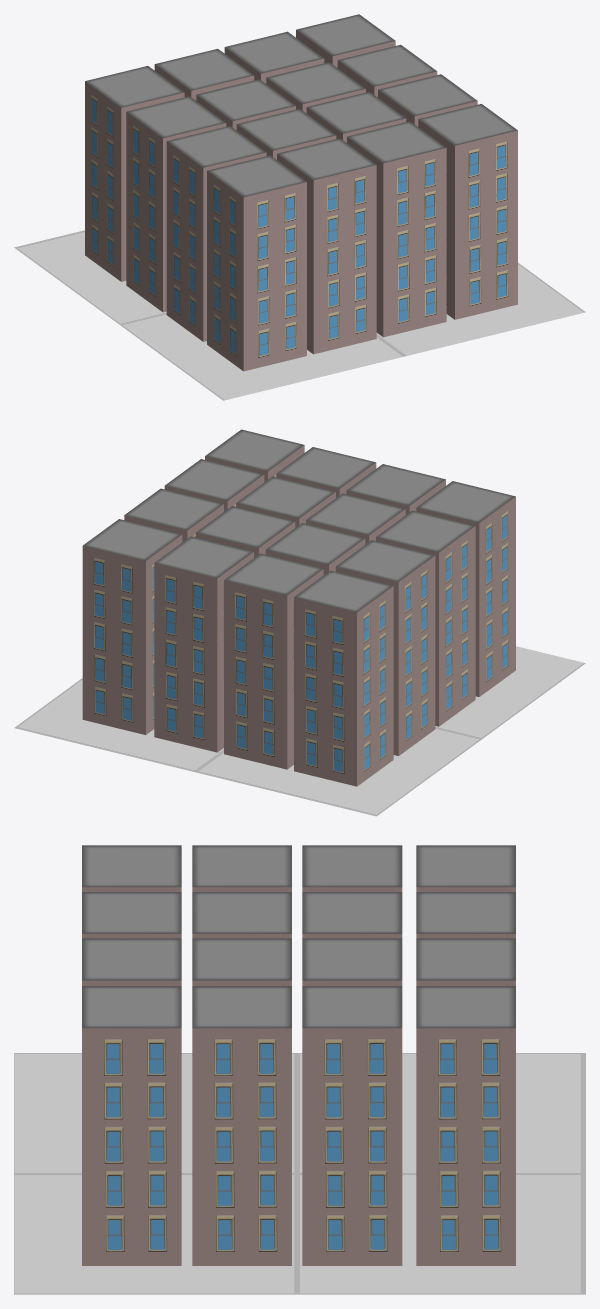
Rendered from erea_1.fbx.
The picture shows the model from 3 angles, top to bottom: view 1: azimuth 30°, elevation 25°; view 2: azimuth 150°, elevation 25°; view 3: azimuth 270°, elevation 25°; orthographic projection. The views are drawn at different scales.
Parts seen in each view (by area): view 1: pCube87, pPlane80, pCube90, pCube89, pCube88, pCube102, pCube94, pCube95, pCube99, pCube100, pCube101, pCube91 (+5 smaller); view 2: pCube102, pPlane80, pCube99, pCube100, pCube101, pCube95, pCube87, pCube94, pCube98, pCube96, pCube97, pCube90 (+5 smaller); view 3: pPlane80, pCube98, pCube90, pCube91, pCube99, pCube97, pCube89, pCube92, pCube100, pCube95, pCube96, pCube87 (+5 smaller).
Boxes of the visible parts, x1,y1,x2,y2 form: pCube87: [207, 155, 306, 371]; pPlane80: [14, 230, 585, 400]; pCube90: [418, 104, 517, 319]; pCube89: [347, 121, 446, 337]; pCube88: [277, 138, 376, 354]; pCube102: [85, 66, 184, 281]; pCube94: [166, 126, 266, 341]; pCube95: [126, 96, 226, 312]; pCube99: [296, 14, 395, 67]; pCube100: [224, 31, 324, 83]; pCube101: [154, 48, 254, 100]; pCube91: [378, 74, 477, 126]; pCube102: [294, 570, 393, 786]; pPlane80: [14, 646, 585, 816]; pCube99: [82, 519, 182, 734]; pCube100: [154, 536, 253, 752]; pCube101: [224, 553, 323, 769]; pCube95: [335, 540, 435, 756]; pCube87: [416, 481, 515, 696]; pCube94: [376, 510, 475, 726]; pCube98: [124, 488, 223, 541]; pCube96: [265, 523, 365, 574]; pCube97: [195, 506, 295, 557]; pCube90: [205, 429, 304, 481]; pPlane80: [14, 1053, 585, 1294]; pCube98: [302, 986, 402, 1265]; pCube90: [82, 986, 181, 1265]; pCube91: [192, 986, 291, 1265]; pCube99: [416, 986, 515, 1265]; pCube97: [302, 938, 402, 985]; pCube89: [82, 938, 181, 985]; pCube92: [192, 938, 291, 985]; pCube100: [416, 938, 515, 985]; pCube95: [302, 845, 402, 891]; pCube96: [302, 892, 402, 938]; pCube87: [82, 845, 181, 891].
Bounding box in the file's own units: 54.5 × 25 × 54.5.
